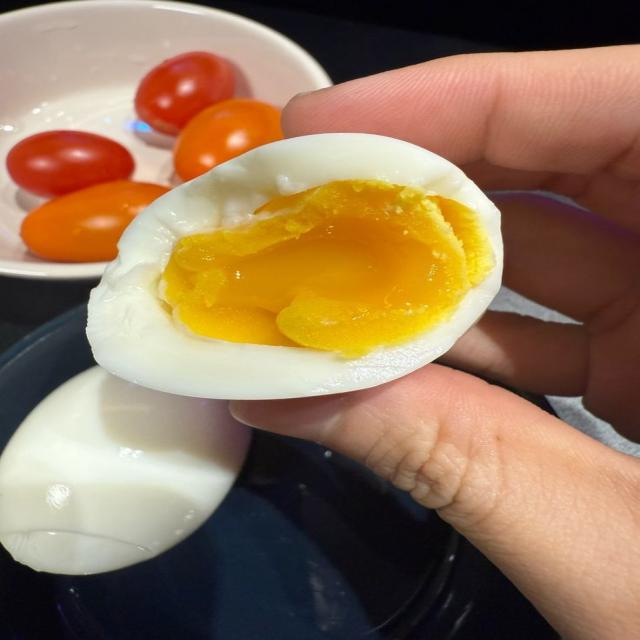egg boiled: (87, 134, 501, 399), (0, 367, 250, 574)
